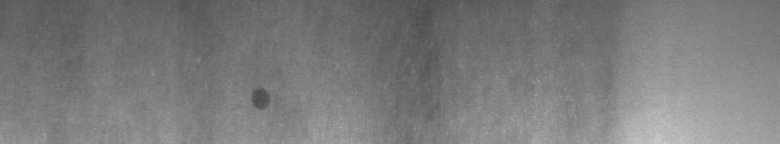fi: (248, 84, 273, 115)
